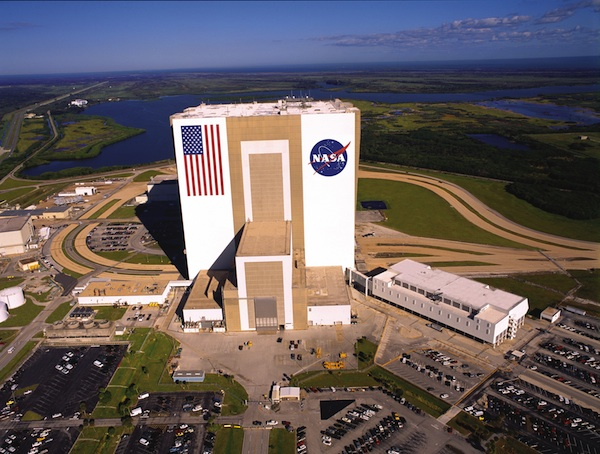NASA: (306, 139, 352, 177)
